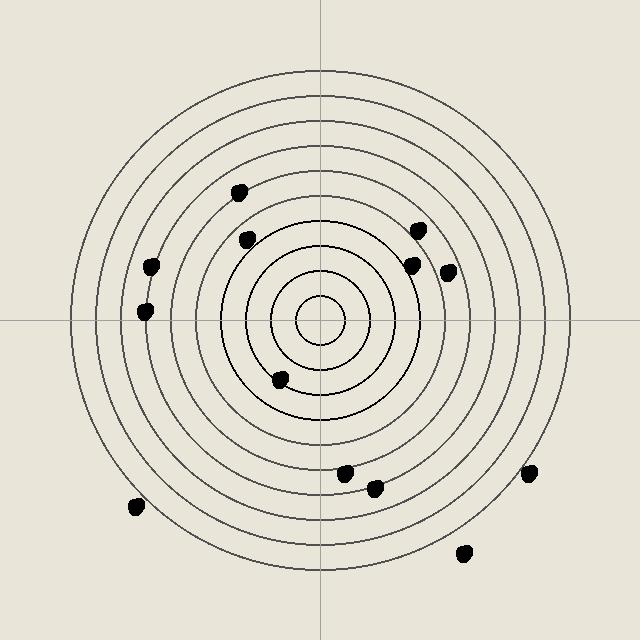random_scatter: (401, 255, 421, 275), (269, 369, 289, 389), (407, 220, 427, 240), (125, 496, 145, 516), (364, 478, 384, 498), (453, 543, 473, 563), (236, 229, 256, 249), (437, 262, 457, 282), (140, 256, 160, 276), (134, 301, 154, 321), (518, 463, 538, 483), (334, 463, 354, 483), (228, 182, 248, 202)
